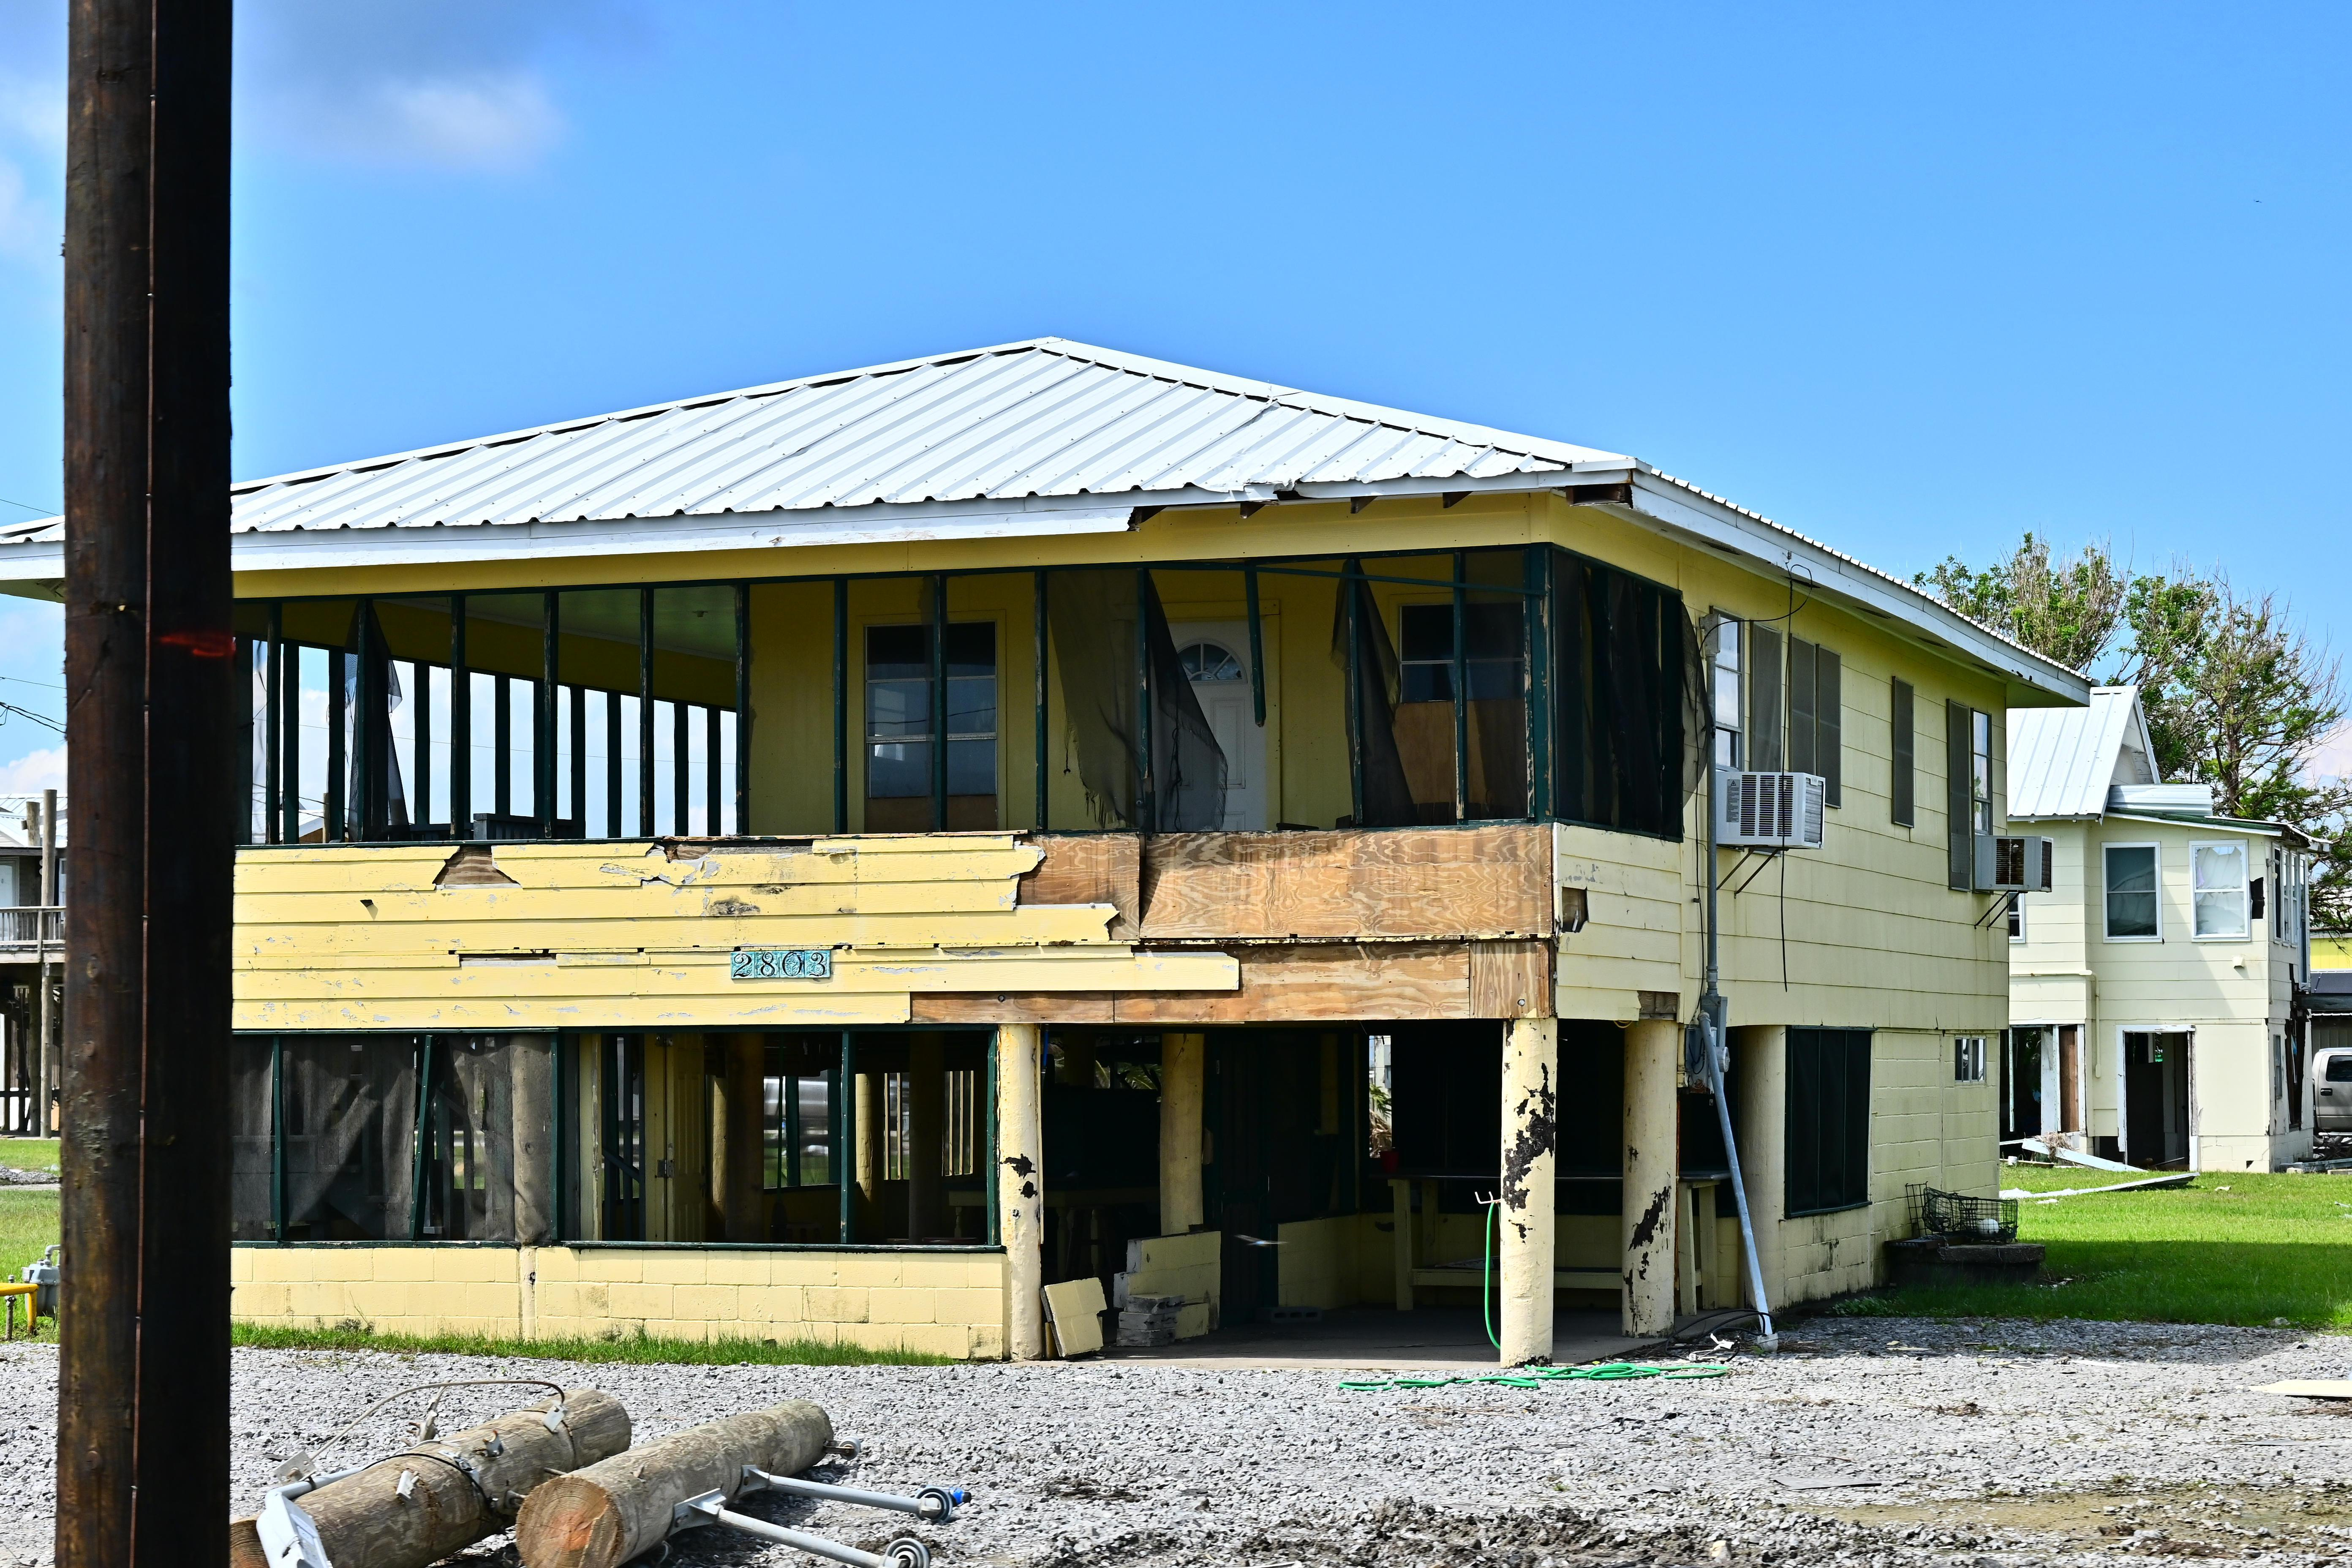minor: (19, 299, 2091, 1381)
